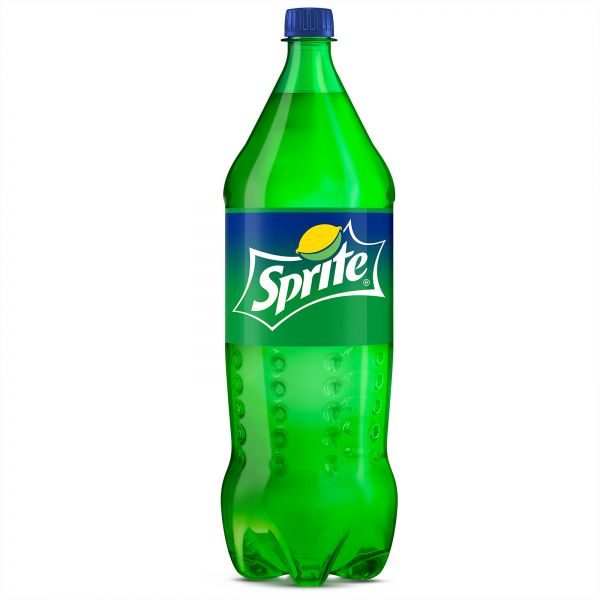sprite: (250, 239, 367, 313)
